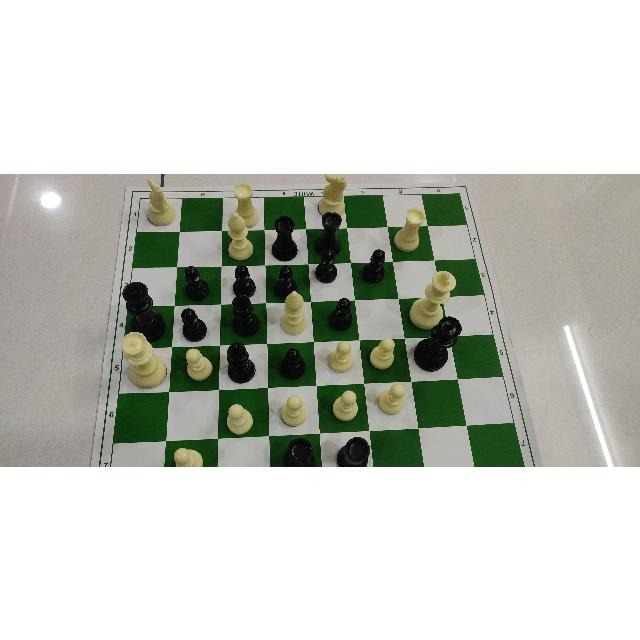black-bishop: (230, 292, 261, 338), (225, 340, 257, 384)
black-king: (123, 279, 167, 344)
black-pawn: (179, 306, 208, 342), (229, 263, 257, 299), (184, 264, 210, 302), (273, 263, 299, 301), (326, 295, 354, 330), (361, 247, 386, 285), (314, 245, 338, 284), (279, 347, 308, 379)
black-queen: (412, 315, 462, 373)
black-rook: (270, 213, 297, 261), (314, 210, 342, 256), (335, 434, 372, 465), (281, 435, 317, 464)
white-bishop: (224, 211, 255, 259), (279, 288, 308, 335)
white-king: (407, 267, 456, 330)
white-knight: (144, 176, 178, 226), (317, 173, 347, 216)
white-pawn: (182, 347, 213, 381), (331, 389, 361, 423), (377, 382, 407, 416), (278, 393, 307, 428), (369, 336, 397, 370), (226, 402, 253, 435), (328, 339, 354, 373), (170, 446, 205, 465)
white-queen: (120, 329, 168, 390)
white-rook: (393, 207, 426, 252), (232, 181, 260, 228)
